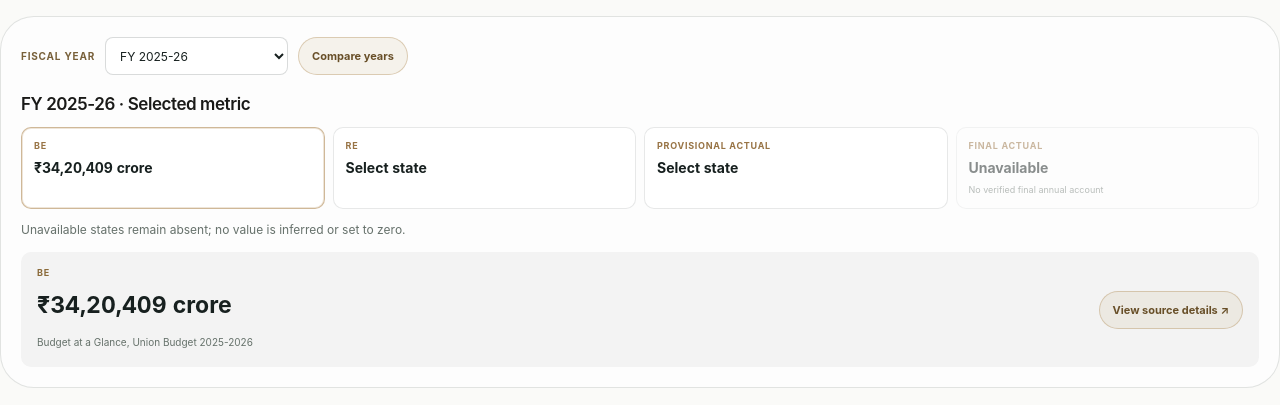
Scenario: Historical fiscal comparison panel › does not replace a selected estimate state when that state is missing in another FY
The width and height of the screenshot is (1280, 405).
Expected: the heading "FY 2025-26 · Selected metric" is shown, x1=21 y1=94 x2=250 y2=114
Click the button "Provisional actual Select state": (714, 146) x1=644 y1=127 x2=948 y2=209
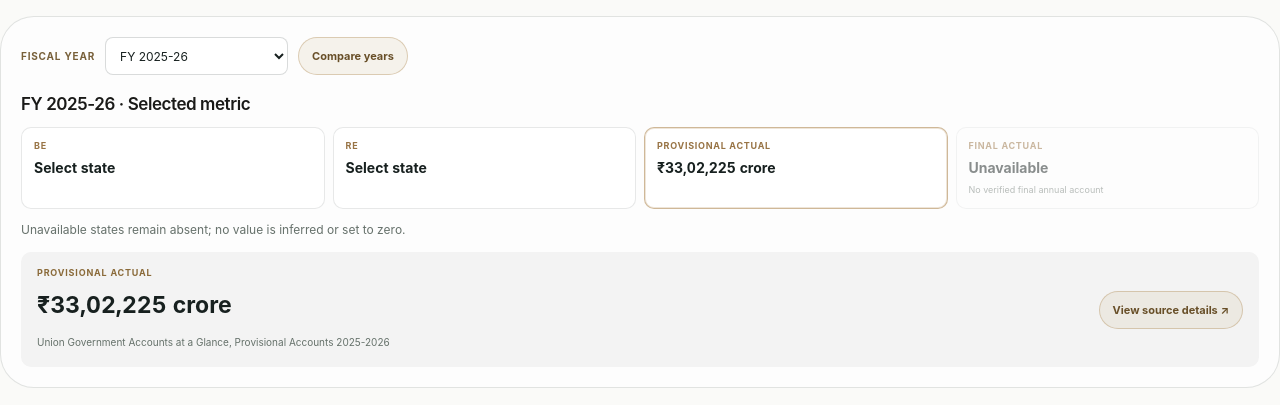
Now the button "Provisional actual ₹33,02,225 crore" is pressed, box x1=644 y1=127 x2=948 y2=209
Select "FY 2024-25" in the dropdown labelled "Fiscal year": (197, 56) x1=105 y1=37 x2=288 y2=75
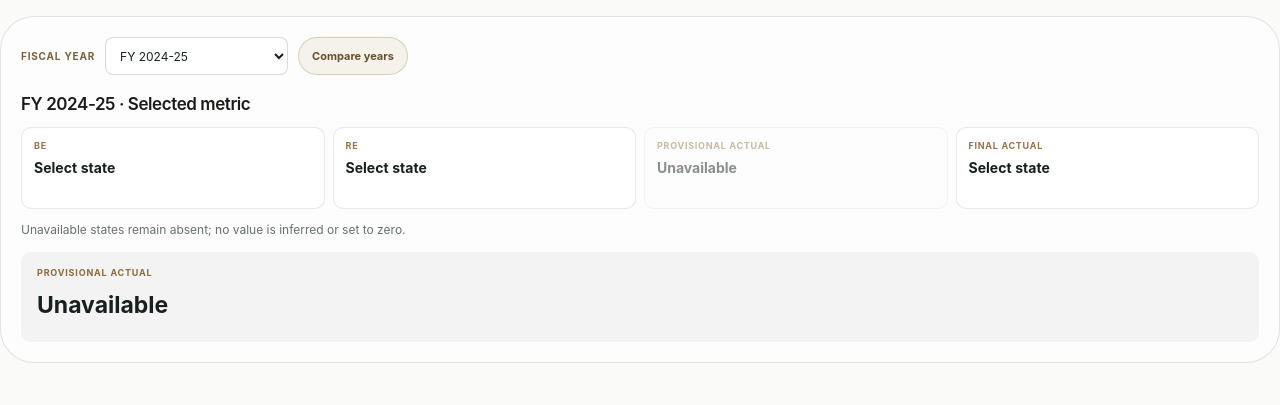
Now the heading "FY 2024-25 · Selected metric" is shown, box x1=21 y1=94 x2=250 y2=114
